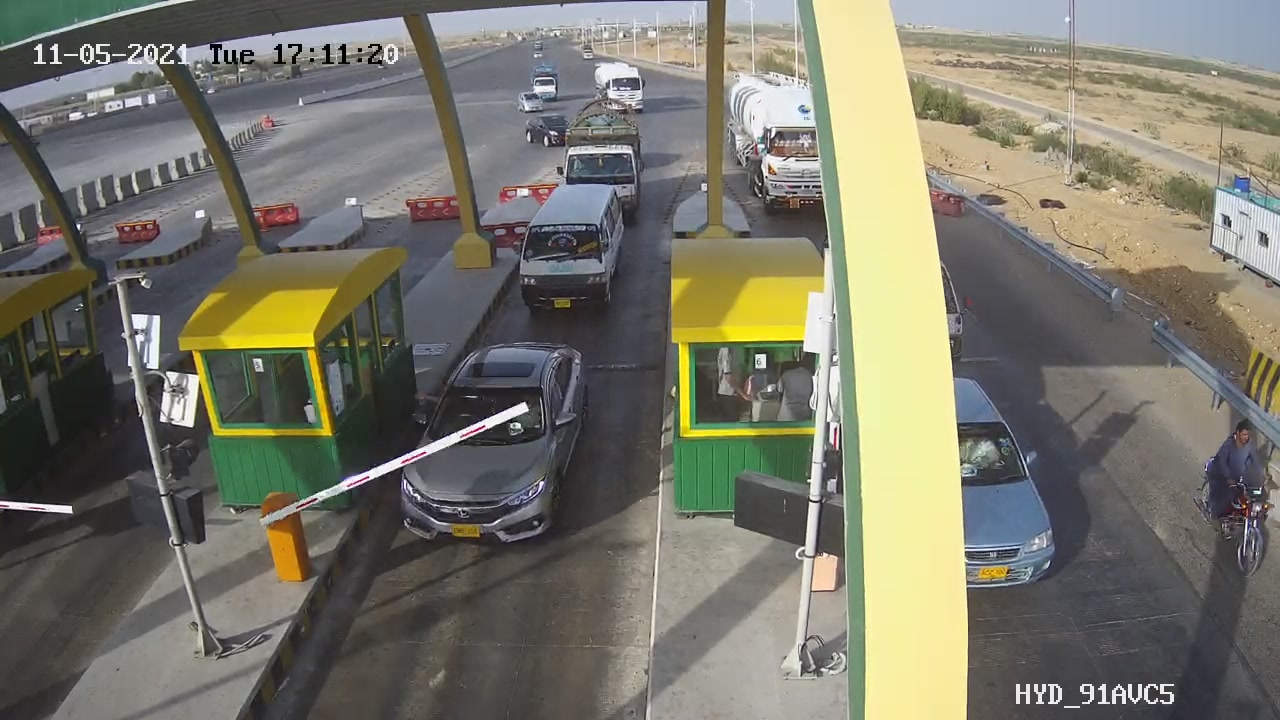F1: (385, 331, 608, 570)
F2: (506, 168, 630, 318)
